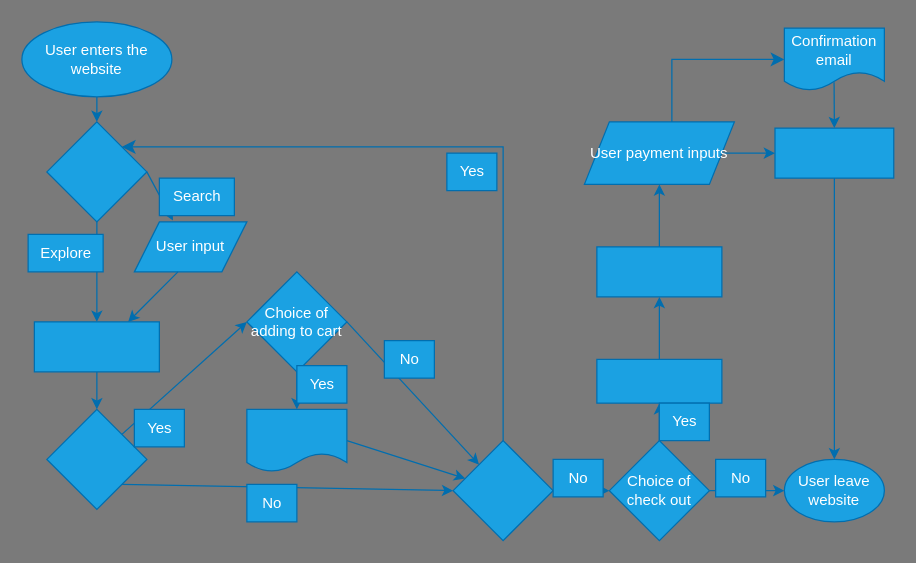
Some shapes in this 916 by 563 pixel diagram are drawn without their labels. The box of each missing label's shape, as (x1, y1, x2, y2) in pixels:
Cart confirmation: (246, 408, 347, 472)
Choice of continuing shopping: (452, 439, 553, 541)
Choice to view the item: (46, 408, 147, 509)
Order confirmation page: (774, 127, 894, 178)
Search or Explore: (46, 121, 147, 222)
Using viewing the product: (33, 321, 159, 372)
View cart screen: (596, 358, 722, 403)
View payment screen: (596, 246, 722, 297)
